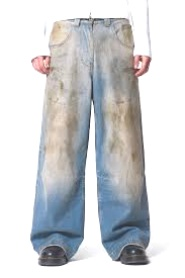earth: (116, 102, 140, 161), (49, 110, 78, 158)
